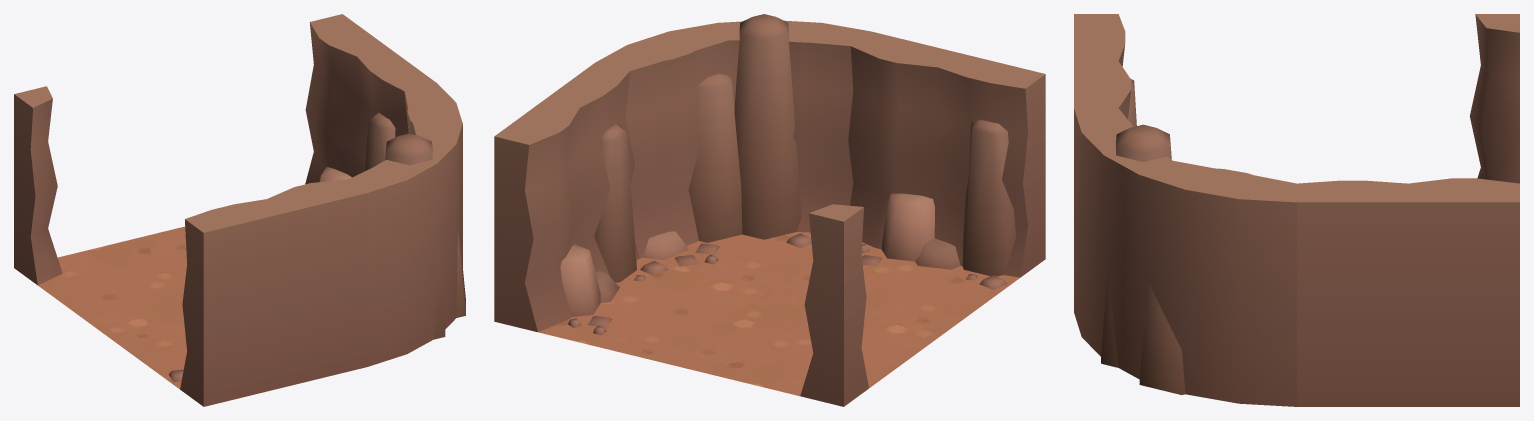
The model's file is kenney-modular-cave-corridor-wide-corner.glb.
3 renders of one model, left to right at view 1: azimuth 30°, elevation 25°; view 2: azimuth 150°, elevation 25°; view 3: azimuth 270°, elevation 25°, orthographic. The views are drawn at different scales.
Visible parts, largest first — view 1: corridor-wide-corner; view 2: corridor-wide-corner; view 3: corridor-wide-corner.
Part boxes in pixels (x1,y1,x2,y2): corridor-wide-corner: (14, 14, 465, 406); corridor-wide-corner: (494, 14, 1045, 406); corridor-wide-corner: (1074, 14, 1519, 406).
Bounding box in the file's own units: 8 × 4.4 × 8.
1 material, 1 textured.
